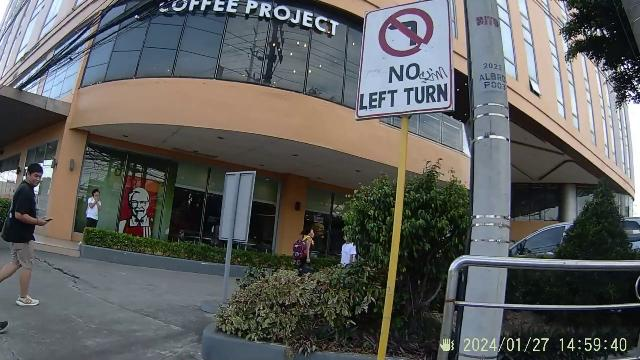street_sign: (354, 0, 458, 268)
